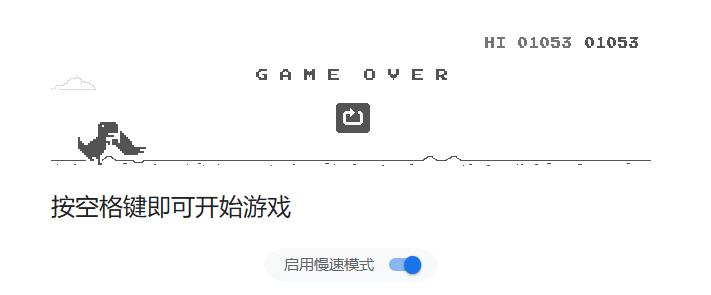bird: (111, 130, 145, 161)
dino: (78, 116, 116, 166)
